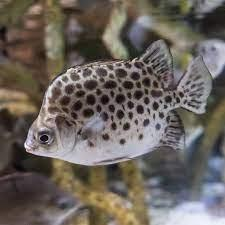Scat Fish: (23, 38, 217, 172)
